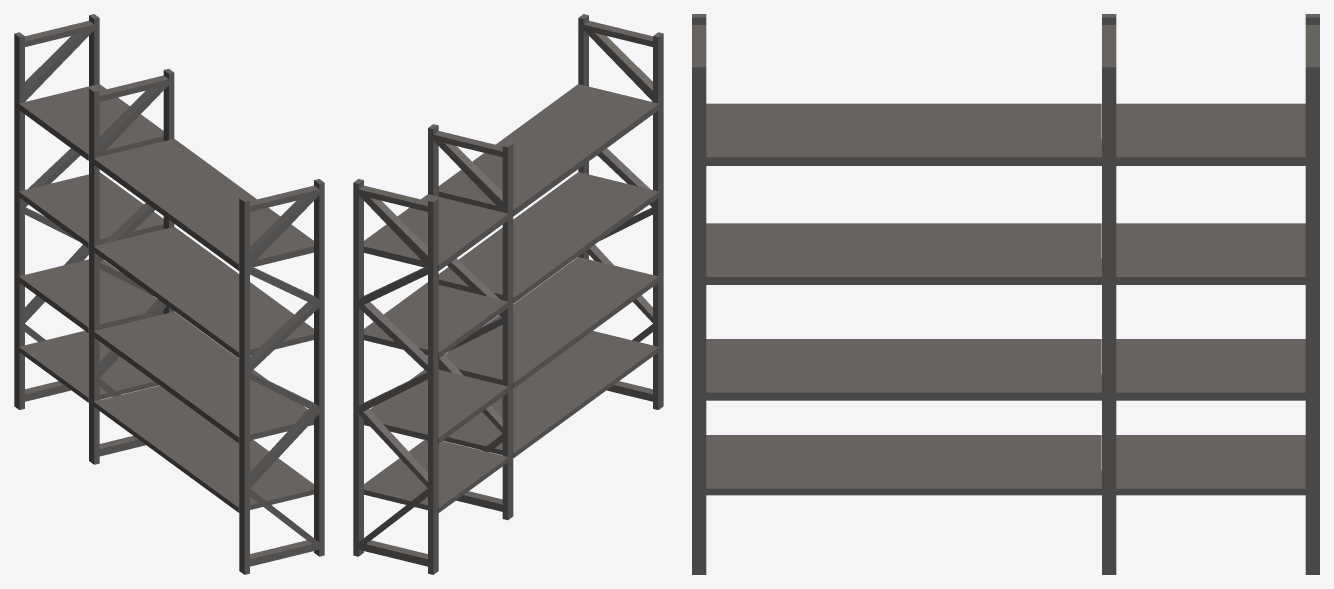
Rendered from etagere_cave.fbx.
3 renders of one model, left to right at view 1: azimuth 30°, elevation 25°; view 2: azimuth 150°, elevation 25°; view 3: azimuth 270°, elevation 25°, orthographic. The views are drawn at different scales.
Visible parts, largest first — view 1: pCube7; view 2: pCube7; view 3: pCube7.
Boxes of the visible parts, x1,y1,x2,y2 form: pCube7: (14,14,324,574); pCube7: (353,14,663,574); pCube7: (692,14,1319,574).
Bounding box in the file's own units: 131 × 579 × 649.
1 material, 1 textured.
